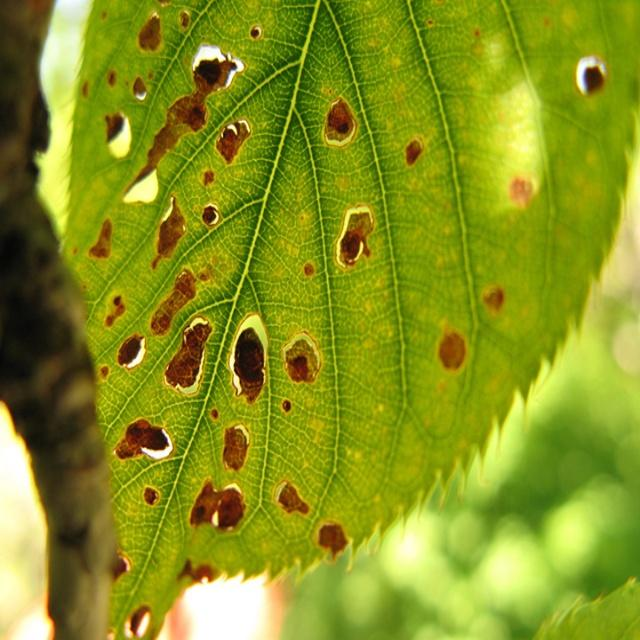leaf_spot: (94, 1, 510, 559)
